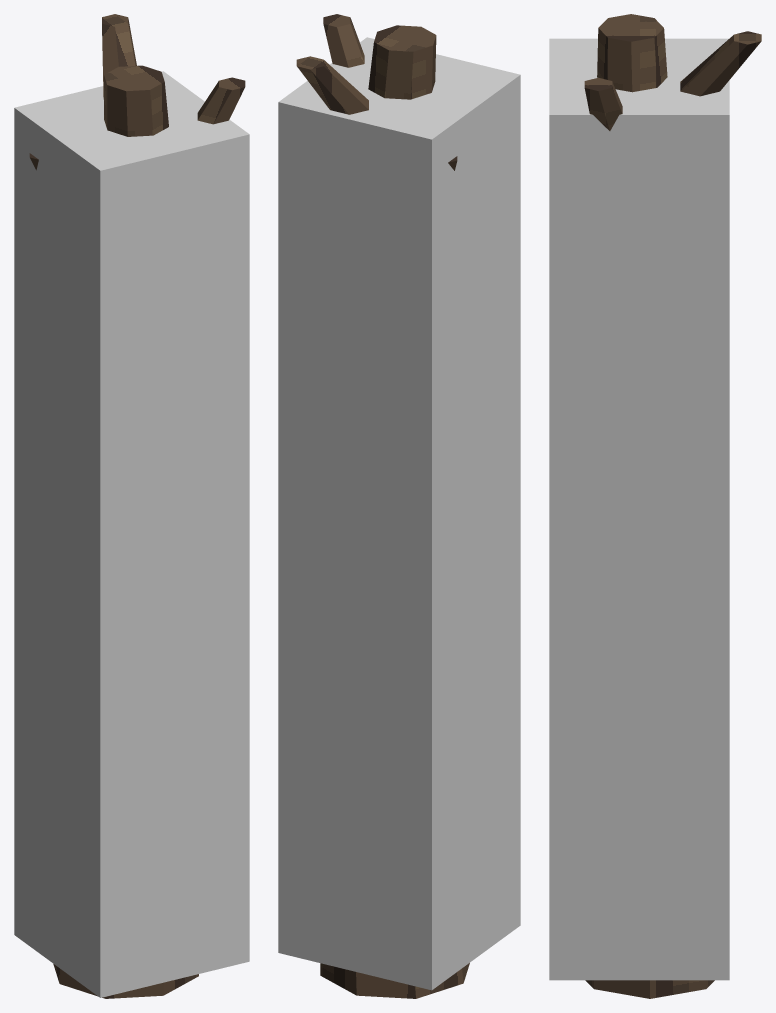
File: tree_small.glb
3 renders of one model, left to right at view 1: azimuth 30°, elevation 25°; view 2: azimuth 150°, elevation 25°; view 3: azimuth 270°, elevation 25°, orthographic. The views are drawn at different scales.
Visible parts, largest first — view 1: col_tree_small, tree_small, tree_small_limb_2, tree_small_limb_1; view 2: col_tree_small, tree_small, tree_small_limb_2, tree_small_limb_1; view 3: col_tree_small, tree_small, tree_small_limb_2, tree_small_limb_1.
Part boxes in pixels (box(x1,y1,x2,y2)): col_tree_small: box(14, 71, 249, 997); tree_small: box(53, 65, 198, 998); tree_small_limb_2: box(102, 14, 136, 99); tree_small_limb_1: box(197, 77, 245, 124); col_tree_small: box(278, 37, 520, 990); tree_small: box(320, 25, 469, 998); tree_small_limb_2: box(296, 56, 368, 114); tree_small_limb_1: box(323, 14, 364, 67); col_tree_small: box(549, 38, 729, 980); tree_small: box(585, 14, 714, 998); tree_small_limb_2: box(680, 31, 761, 96); tree_small_limb_1: box(584, 77, 622, 130).
Size of the model in its own units: 0.3938 by 1.97 by 0.4003.
Materials: 1 (1 with a texture image).
